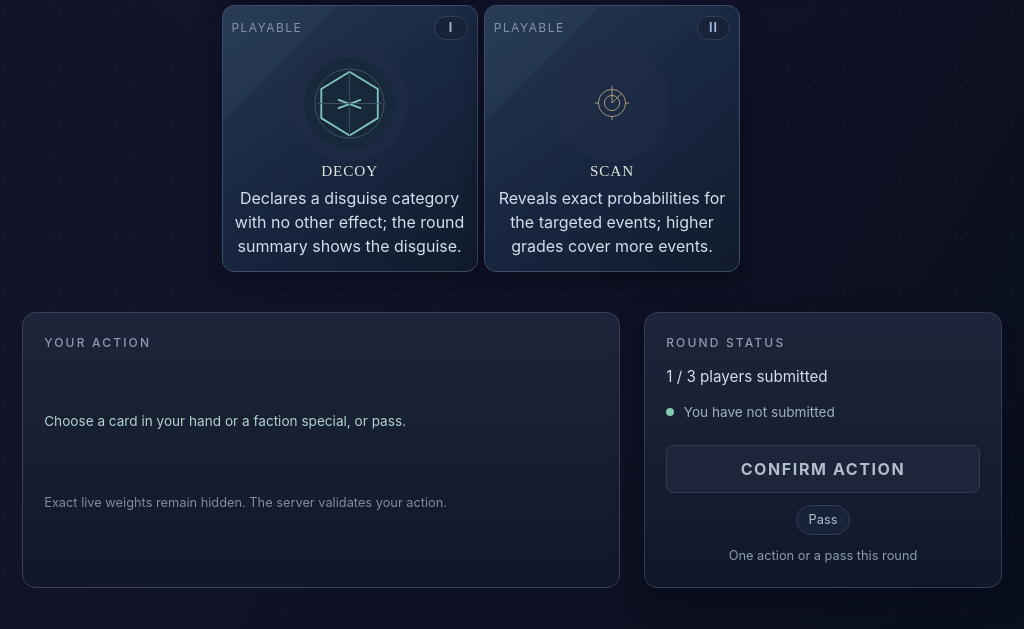
Scenario: playing an action on the board › passes, then shows the caller as submitted with no further controls
(page scrolled)
Click the button "Pass" at (823, 520), box [796, 504, 850, 535]
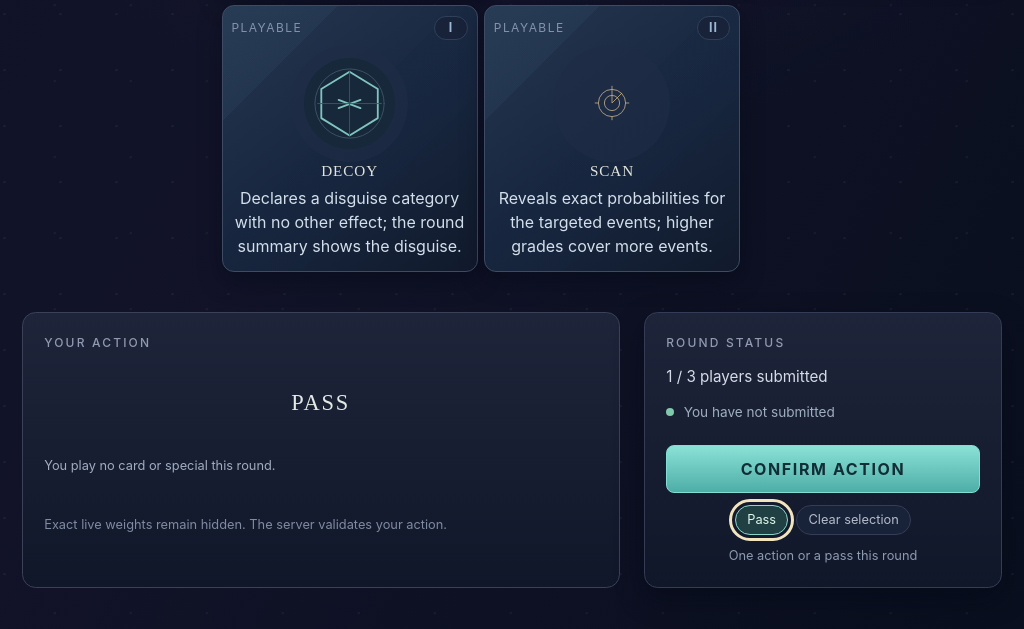
Result: the text "You play no card or special this round." is shown at [44, 458, 276, 473]
Click the button "Confirm action" at (823, 469), box [666, 445, 980, 493]
(page scrolled)
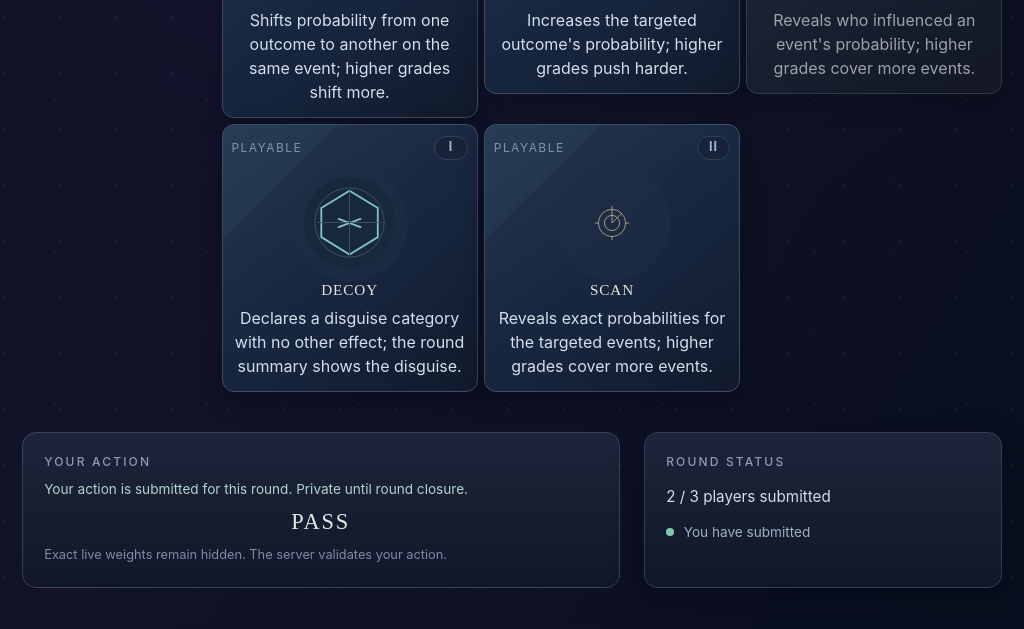
Result: the text "You have submitted" is shown at [666, 524, 810, 540]
Result: the text "Your action is submitted for this round." is shown at [44, 481, 468, 497]
Result: the button "Confirm action" is gone
